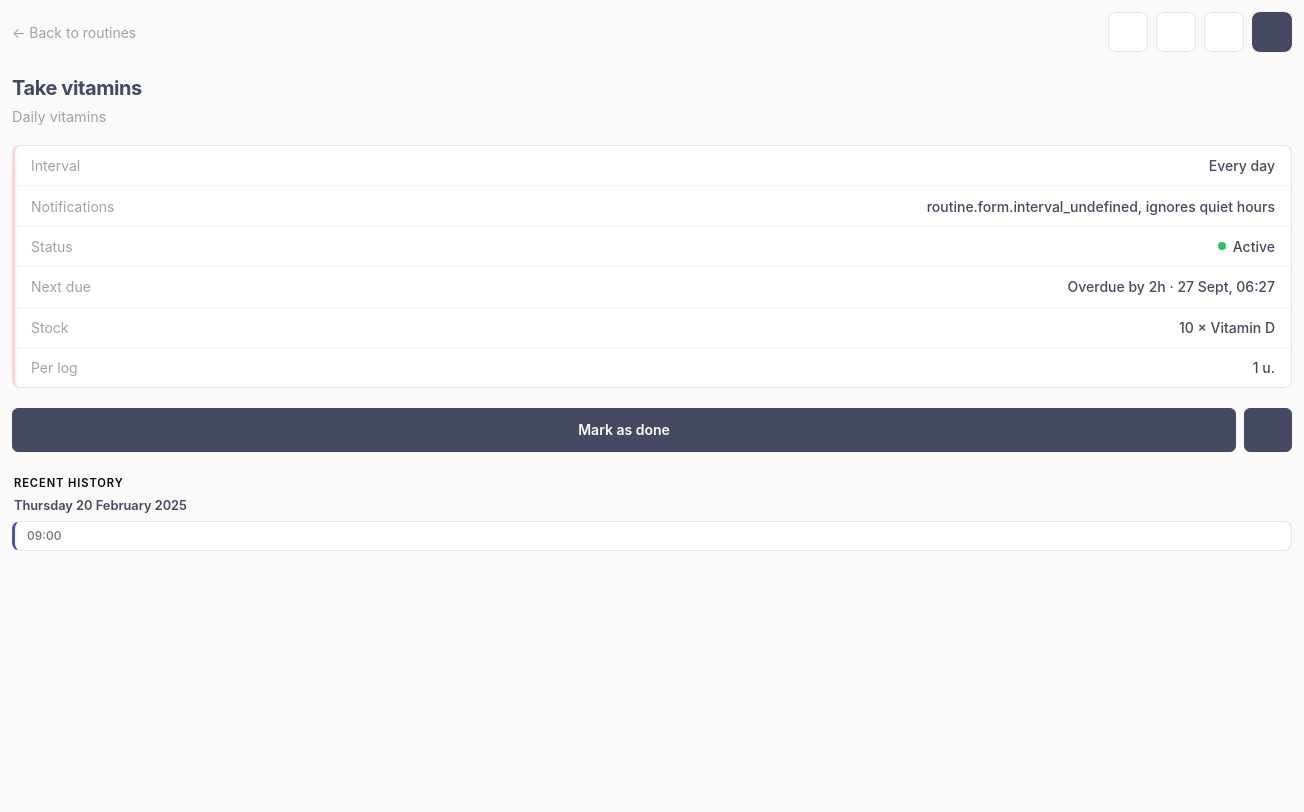
it: RoutineDetailPage › shows error when toggle active fails
Click the button named "Deactivate" at x=1176, y=32, box top-left (1156, 12), bottom-right (1196, 52)
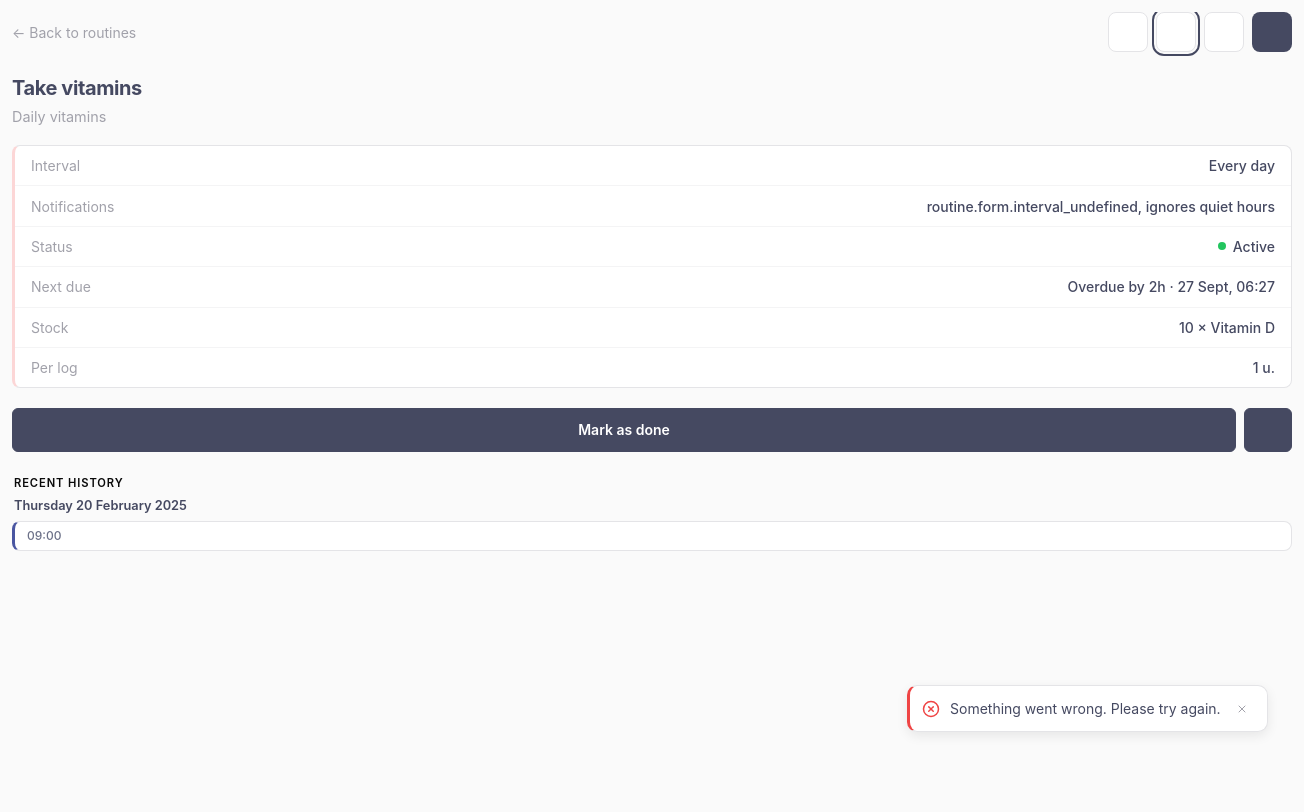
Result: the text "Something went wrong. Please try again." is shown at top-left (950, 700), bottom-right (1221, 718)
